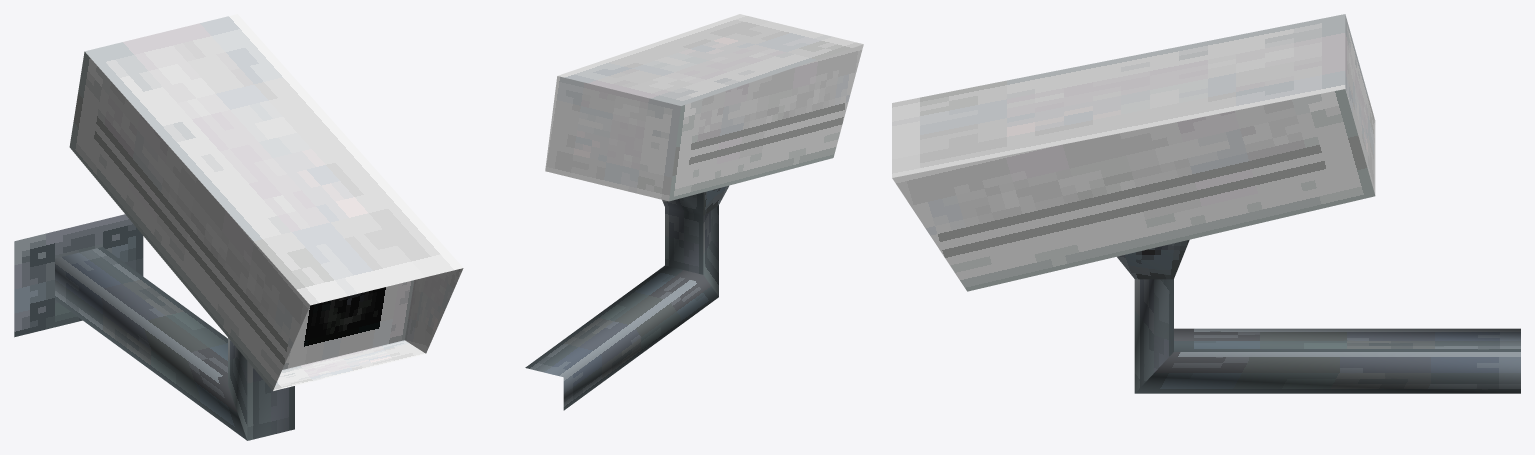
Rendered from SecurityCamera_01.glb.
3 views of the same model, side by side, from view 1: azimuth 30°, elevation 25°; view 2: azimuth 150°, elevation 25°; view 3: azimuth 270°, elevation 25° (orthographic). The views are drawn at different scales.
Visible parts, largest first — view 1: SECURITYCAMERA_01; view 2: SECURITYCAMERA_01; view 3: SECURITYCAMERA_01.
Part boxes in pixels (x1,y1,x2,y2): SECURITYCAMERA_01: [14, 14, 463, 440]; SECURITYCAMERA_01: [525, 14, 863, 410]; SECURITYCAMERA_01: [892, 14, 1520, 393].
Size of the model in its own units: 0.177 by 0.391 by 0.627.
Materials: 1 (1 with a texture image).
